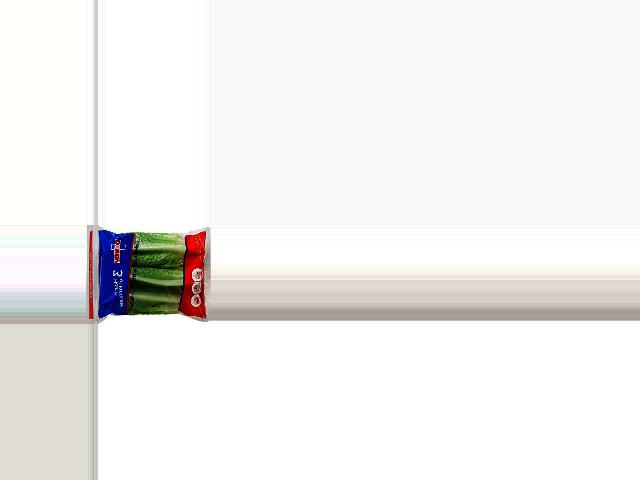lettuce: (95, 229, 210, 319)
